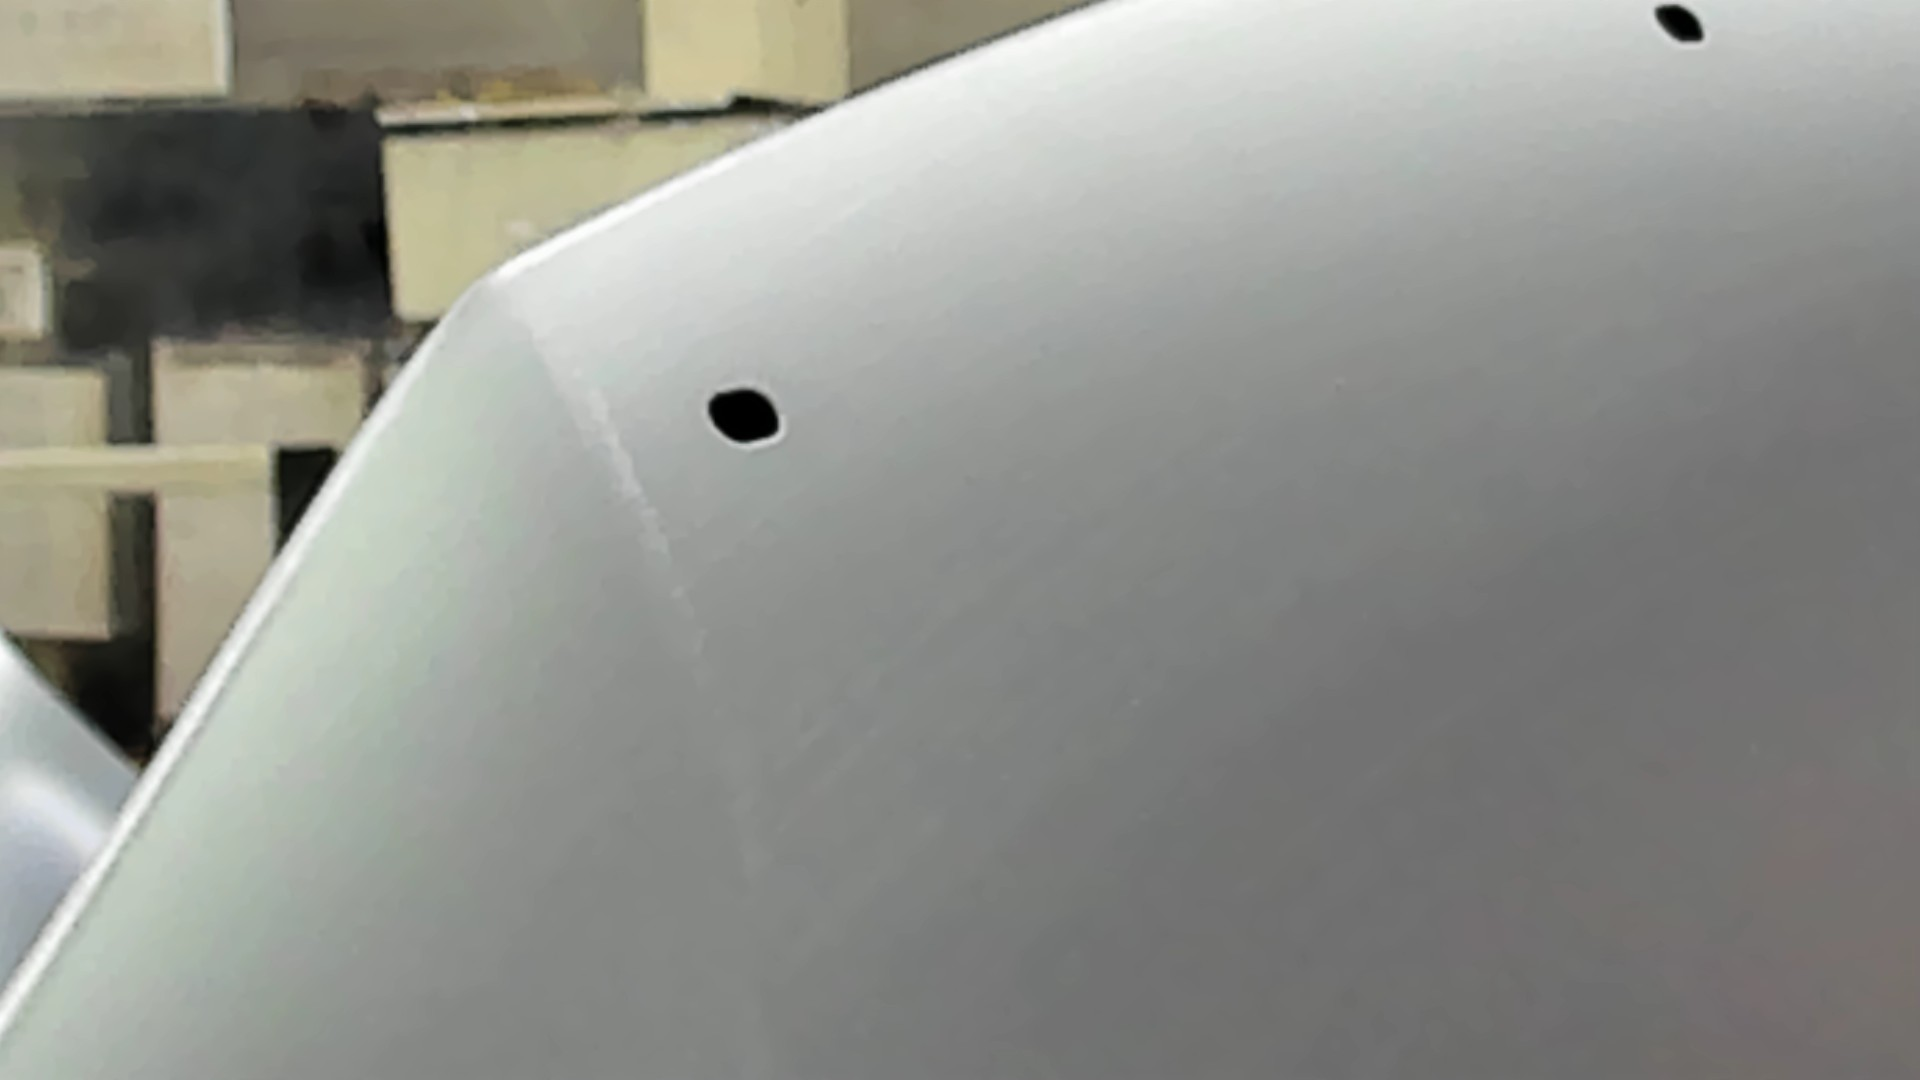amorfo: (704, 382, 787, 450), (1652, 1, 1706, 49)
capo: (847, 125, 1920, 1080)
